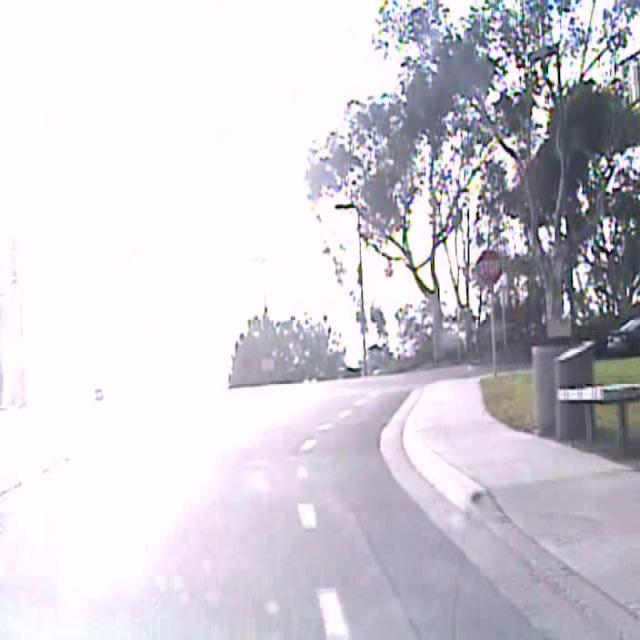stop_sign: (475, 248, 503, 287)
